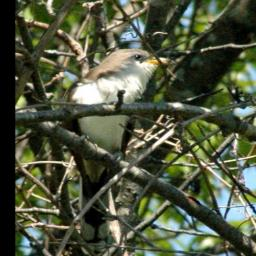Cuckoo: (58, 48, 178, 253)
